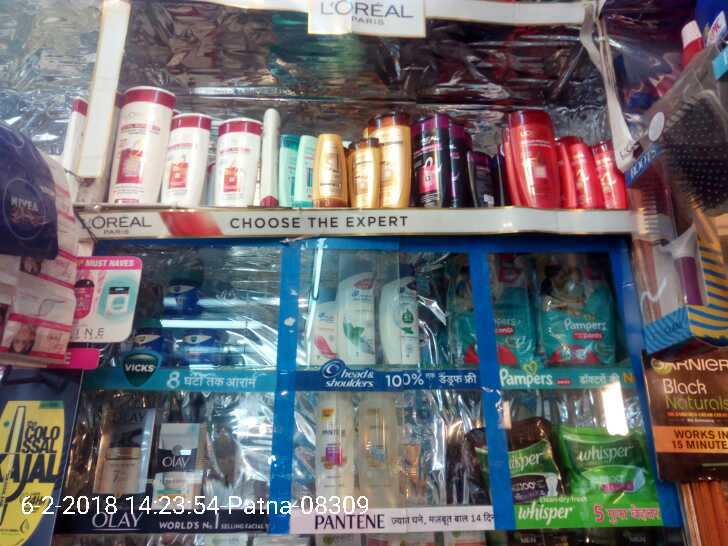beauty: (94, 408, 155, 505), (377, 259, 430, 370), (353, 395, 401, 508), (156, 415, 206, 516), (333, 256, 376, 360), (313, 393, 353, 500), (303, 281, 335, 363)
pharmacy: (536, 253, 617, 365), (562, 435, 650, 497), (174, 331, 233, 367), (129, 315, 169, 365), (164, 259, 196, 313)
